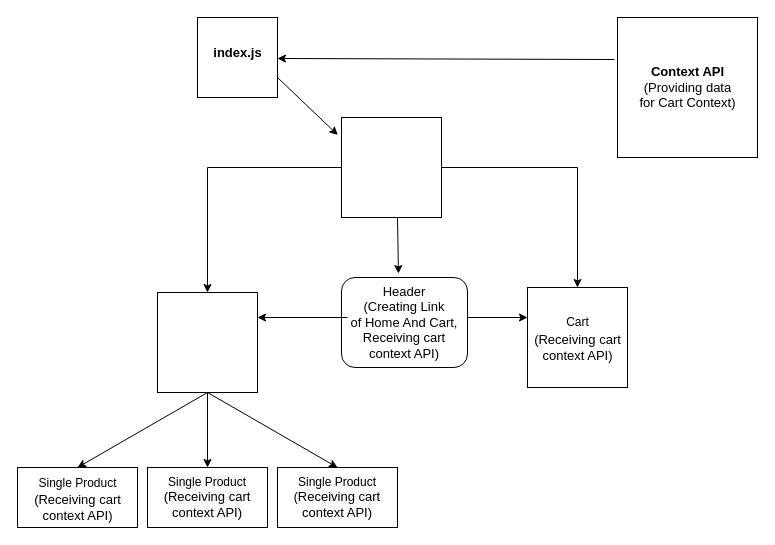
Image size: 775x545. Some labels were removed from this diagram. The centre of each missing label's shape, as x and y in pixels:
"App (Creating Routes for Home And Cart)" belongs at pixel 391 167.
"Home" belongs at pixel 207 342.
